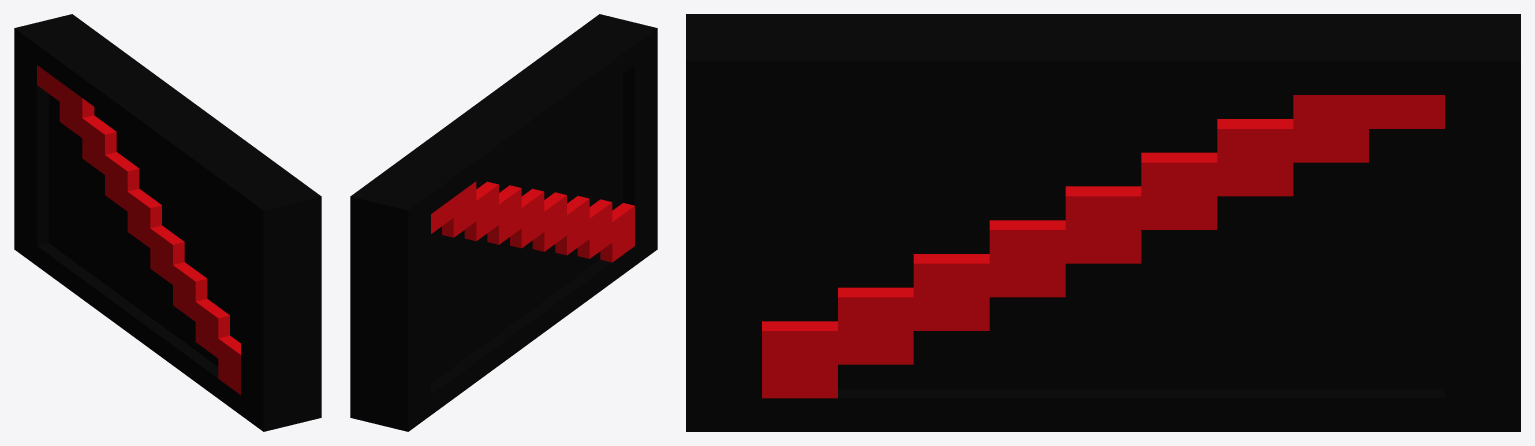
Rendered from duvar.fbx.
3 renders of one model, left to right at view 1: azimuth 30°, elevation 25°; view 2: azimuth 150°, elevation 25°; view 3: azimuth 270°, elevation 25°, orthographic. The views are drawn at different scales.
Visible parts, largest first — view 1: Cube.006; view 2: Cube.006; view 3: Cube.006.
Part boxes in pixels (x1,y1,x2,y2): Cube.006: (14,14,321,431); Cube.006: (350,14,657,431); Cube.006: (686,14,1520,431).
Bounding box in the file's own units: 311 × 1131 × 2309.
